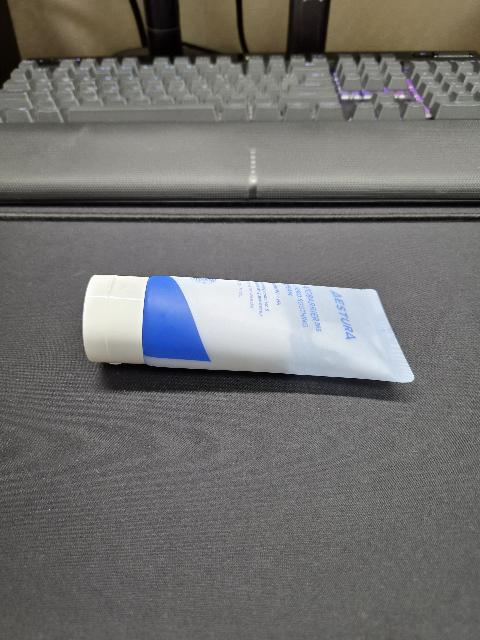handcream: (83, 274, 415, 383)
